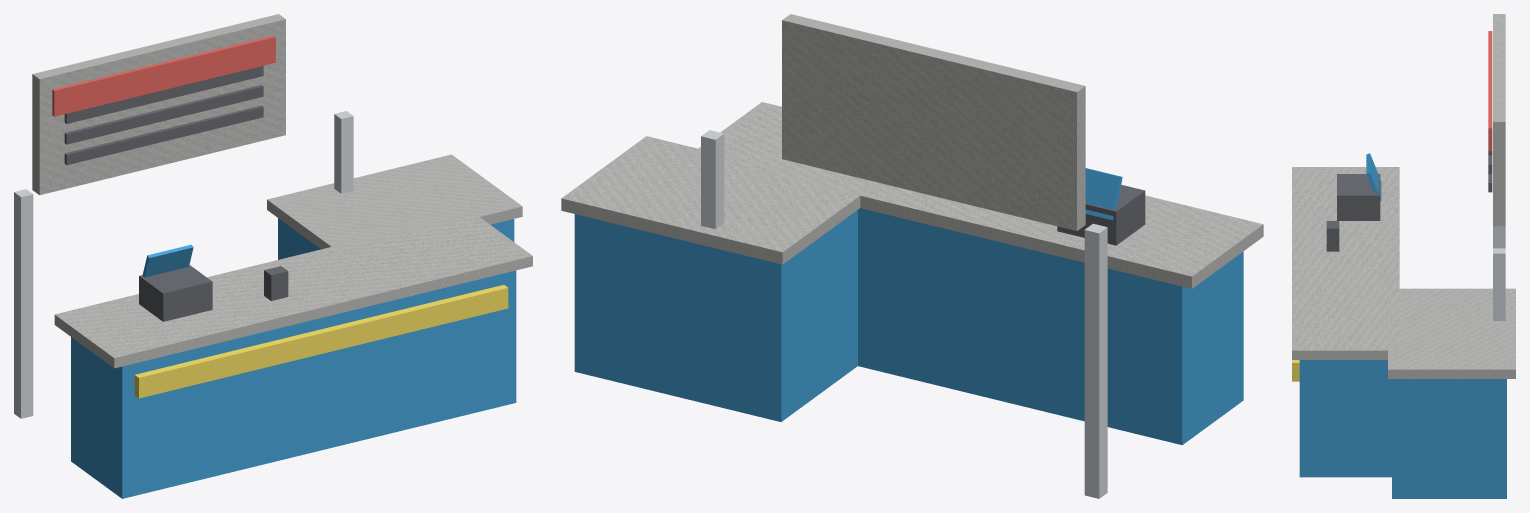
Rendered from go-kart-track-and-pit-lane-kart-club-reception-counter-42bbfbf2__34362.glb.
The picture shows the model from 3 angles, left to right: view 1: azimuth 30°, elevation 25°; view 2: azimuth 150°, elevation 25°; view 3: azimuth 270°, elevation 25°; orthographic projection. The views are drawn at different scales.
Parts seen in each view (by area): view 1: kart-club-reception-counter-concrete, kart-club-reception-counter-azure, kart-club-reception-counter-charcoal, kart-club-reception-counter-canary, kart-club-reception-counter-red, kart-club-reception-counter-steel; view 2: kart-club-reception-counter-azure, kart-club-reception-counter-concrete, kart-club-reception-counter-steel, kart-club-reception-counter-charcoal; view 3: kart-club-reception-counter-concrete, kart-club-reception-counter-azure, kart-club-reception-counter-charcoal, kart-club-reception-counter-steel, kart-club-reception-counter-red.
Part boxes in pixels (x1,y1,x2,y2): kart-club-reception-counter-concrete: [32, 14, 532, 368]; kart-club-reception-counter-azure: [71, 218, 516, 498]; kart-club-reception-counter-charcoal: [64, 66, 288, 321]; kart-club-reception-counter-canary: [134, 285, 508, 398]; kart-club-reception-counter-red: [52, 35, 275, 116]; kart-club-reception-counter-steel: [14, 111, 353, 418]; kart-club-reception-counter-azure: [574, 168, 1243, 445]; kart-club-reception-counter-concrete: [561, 14, 1263, 288]; kart-club-reception-counter-steel: [701, 130, 1107, 498]; kart-club-reception-counter-charcoal: [1057, 185, 1145, 245]; kart-club-reception-counter-concrete: [1292, 14, 1515, 378]; kart-club-reception-counter-azure: [1299, 153, 1506, 498]; kart-club-reception-counter-charcoal: [1326, 151, 1492, 251]; kart-club-reception-counter-steel: [1493, 226, 1505, 320]; kart-club-reception-counter-red: [1488, 31, 1492, 151].
Bounding box in the file's own units: 3.75 × 2.6 × 1.75.
6 materials, 1 textured.
